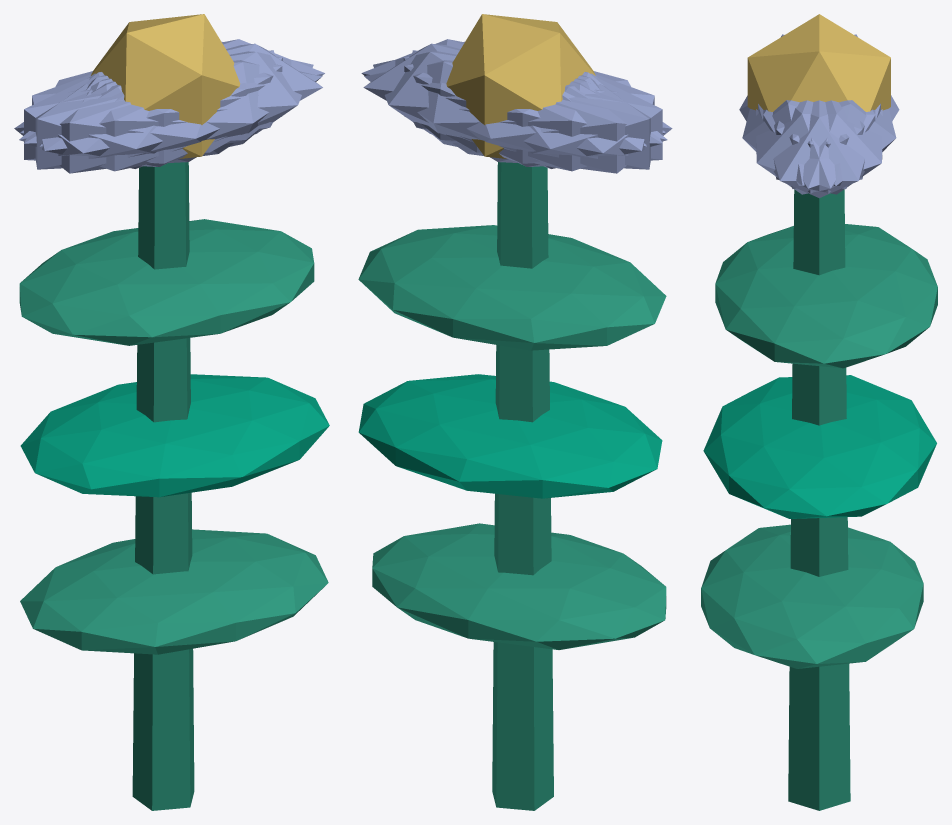
File: premna-serratifolia.glb
3 renders of one model, left to right at view 1: azimuth 30°, elevation 25°; view 2: azimuth 150°, elevation 25°; view 3: azimuth 270°, elevation 25°, orthographic.
Visible parts, largest first — view 1: leaf1, leaf0, leaf2, stem, center, petal1, petal6, petal2, petal5, petal7, petal0, petal4 (+2 smaller); view 2: leaf2, leaf1, leaf0, stem, center, petal8, petal3, petal7, petal4, petal2, petal0, petal5 (+2 smaller); view 3: leaf1, leaf2, leaf0, stem, center, petal0, petal4, petal5, petal1, petal8.
Boxes of the visible parts, <box> form: leaf1: <box>20,374,329,497</box>; leaf0: <box>20,529,328,654</box>; leaf2: <box>19,219,314,345</box>; stem: <box>132,162,194,810</box>; center: <box>91,14,240,158</box>; petal1: <box>19,60,322,171</box>; petal6: <box>14,73,233,173</box>; petal2: <box>35,50,274,169</box>; petal5: <box>39,51,313,163</box>; petal7: <box>24,56,282,166</box>; petal0: <box>90,43,322,152</box>; petal4: <box>20,39,324,143</box>; leaf2: <box>358,225,666,350</box>; leaf1: <box>358,374,662,498</box>; leaf0: <box>372,523,666,649</box>; stem: <box>492,162,553,810</box>; center: <box>446,14,595,158</box>; petal8: <box>364,60,667,171</box>; petal3: <box>453,73,672,173</box>; petal7: <box>412,50,650,169</box>; petal4: <box>373,51,646,163</box>; petal2: <box>403,56,662,166</box>; petal0: <box>363,43,595,152</box>; petal5: <box>361,39,665,143</box>; leaf1: <box>703,375,936,518</box>; leaf2: <box>715,224,937,368</box>; leaf0: <box>701,524,923,668</box>; stem: <box>788,189,850,810</box>; center: <box>747,14,890,111</box>; petal0: <box>758,100,880,198</box>; petal4: <box>763,100,882,194</box>; petal5: <box>756,100,875,194</box>; petal1: <box>742,100,864,185</box>; petal8: <box>774,100,896,185</box>.
Bounding box in the file's own units: 0.1452 × 0.3602 × 0.1011.
